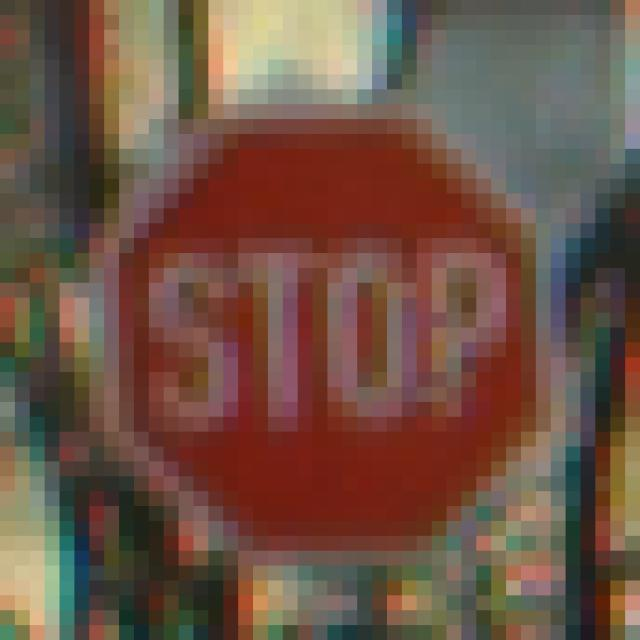STOP: (76, 76, 567, 567)
